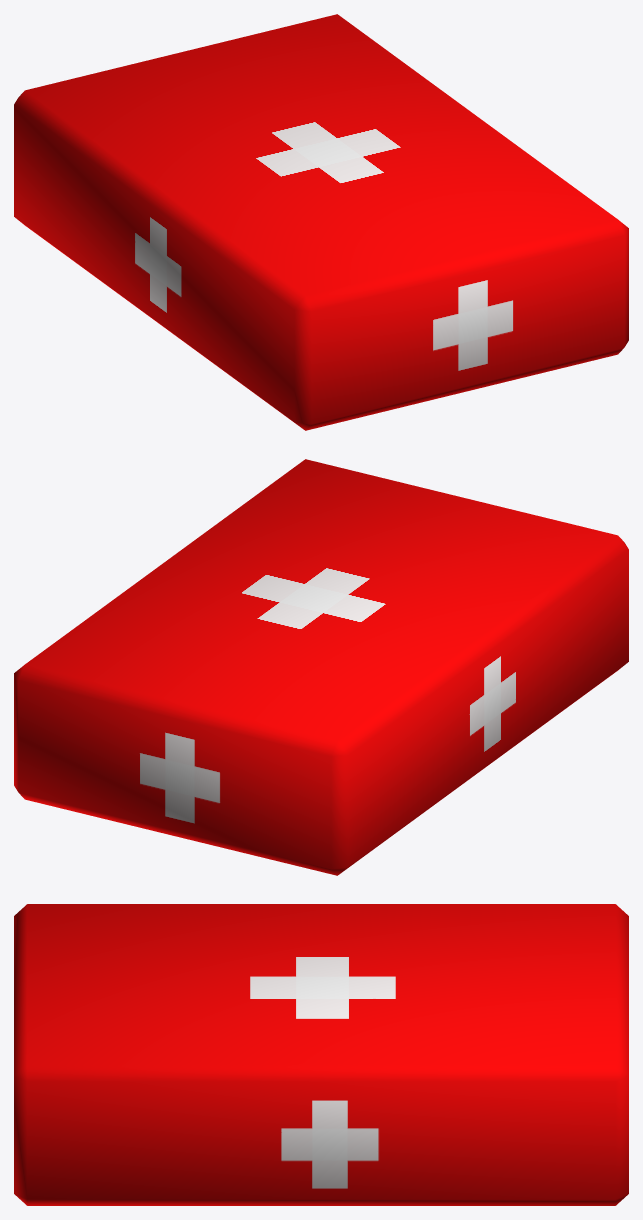
The model's file is HealthPAck.fbx.
3 views of the same model, one above another, from view 1: azimuth 30°, elevation 25°; view 2: azimuth 150°, elevation 25°; view 3: azimuth 270°, elevation 25° (orthographic). The views are drawn at different scales.
Visible parts, largest first — view 1: Cube; view 2: Cube; view 3: Cube.
Boxes of the visible parts, left/top/right/bottom form: Cube: left=14, top=14, right=628, bottom=430; Cube: left=14, top=459, right=628, bottom=875; Cube: left=14, top=904, right=628, bottom=1205.
Size of the model in its own units: 51.92 by 20.04 by 78.83.
1 material, 1 textured.
